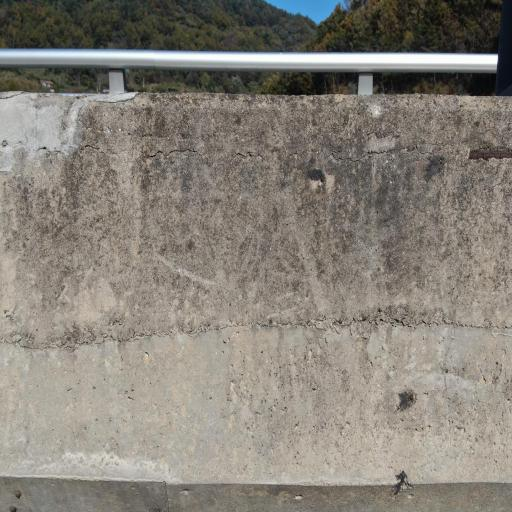exposed_rebar: (469, 149, 512, 160)
